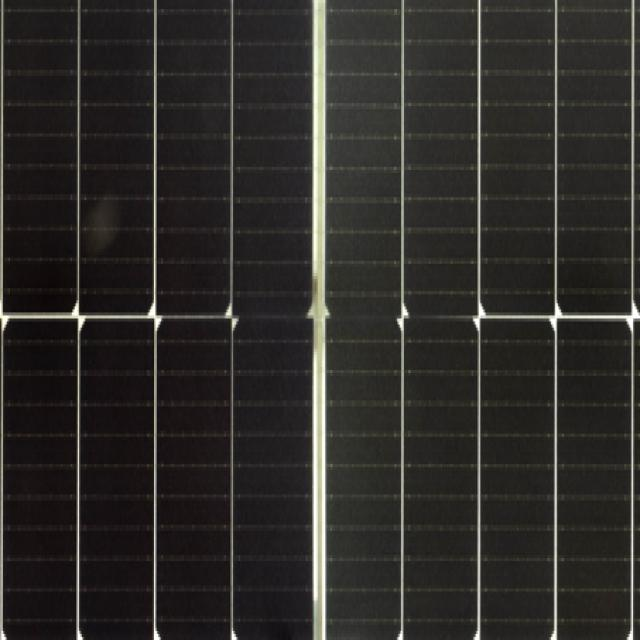CELL SHORT: (332, 300, 476, 334), (235, 308, 322, 334)
